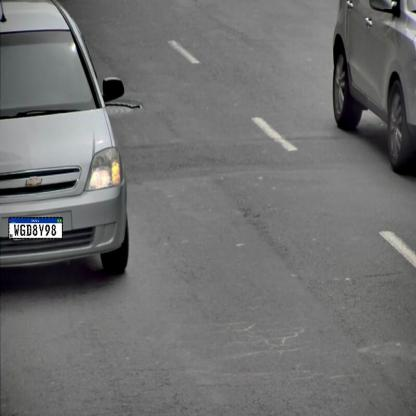PlacaM: (8, 217, 63, 239)
